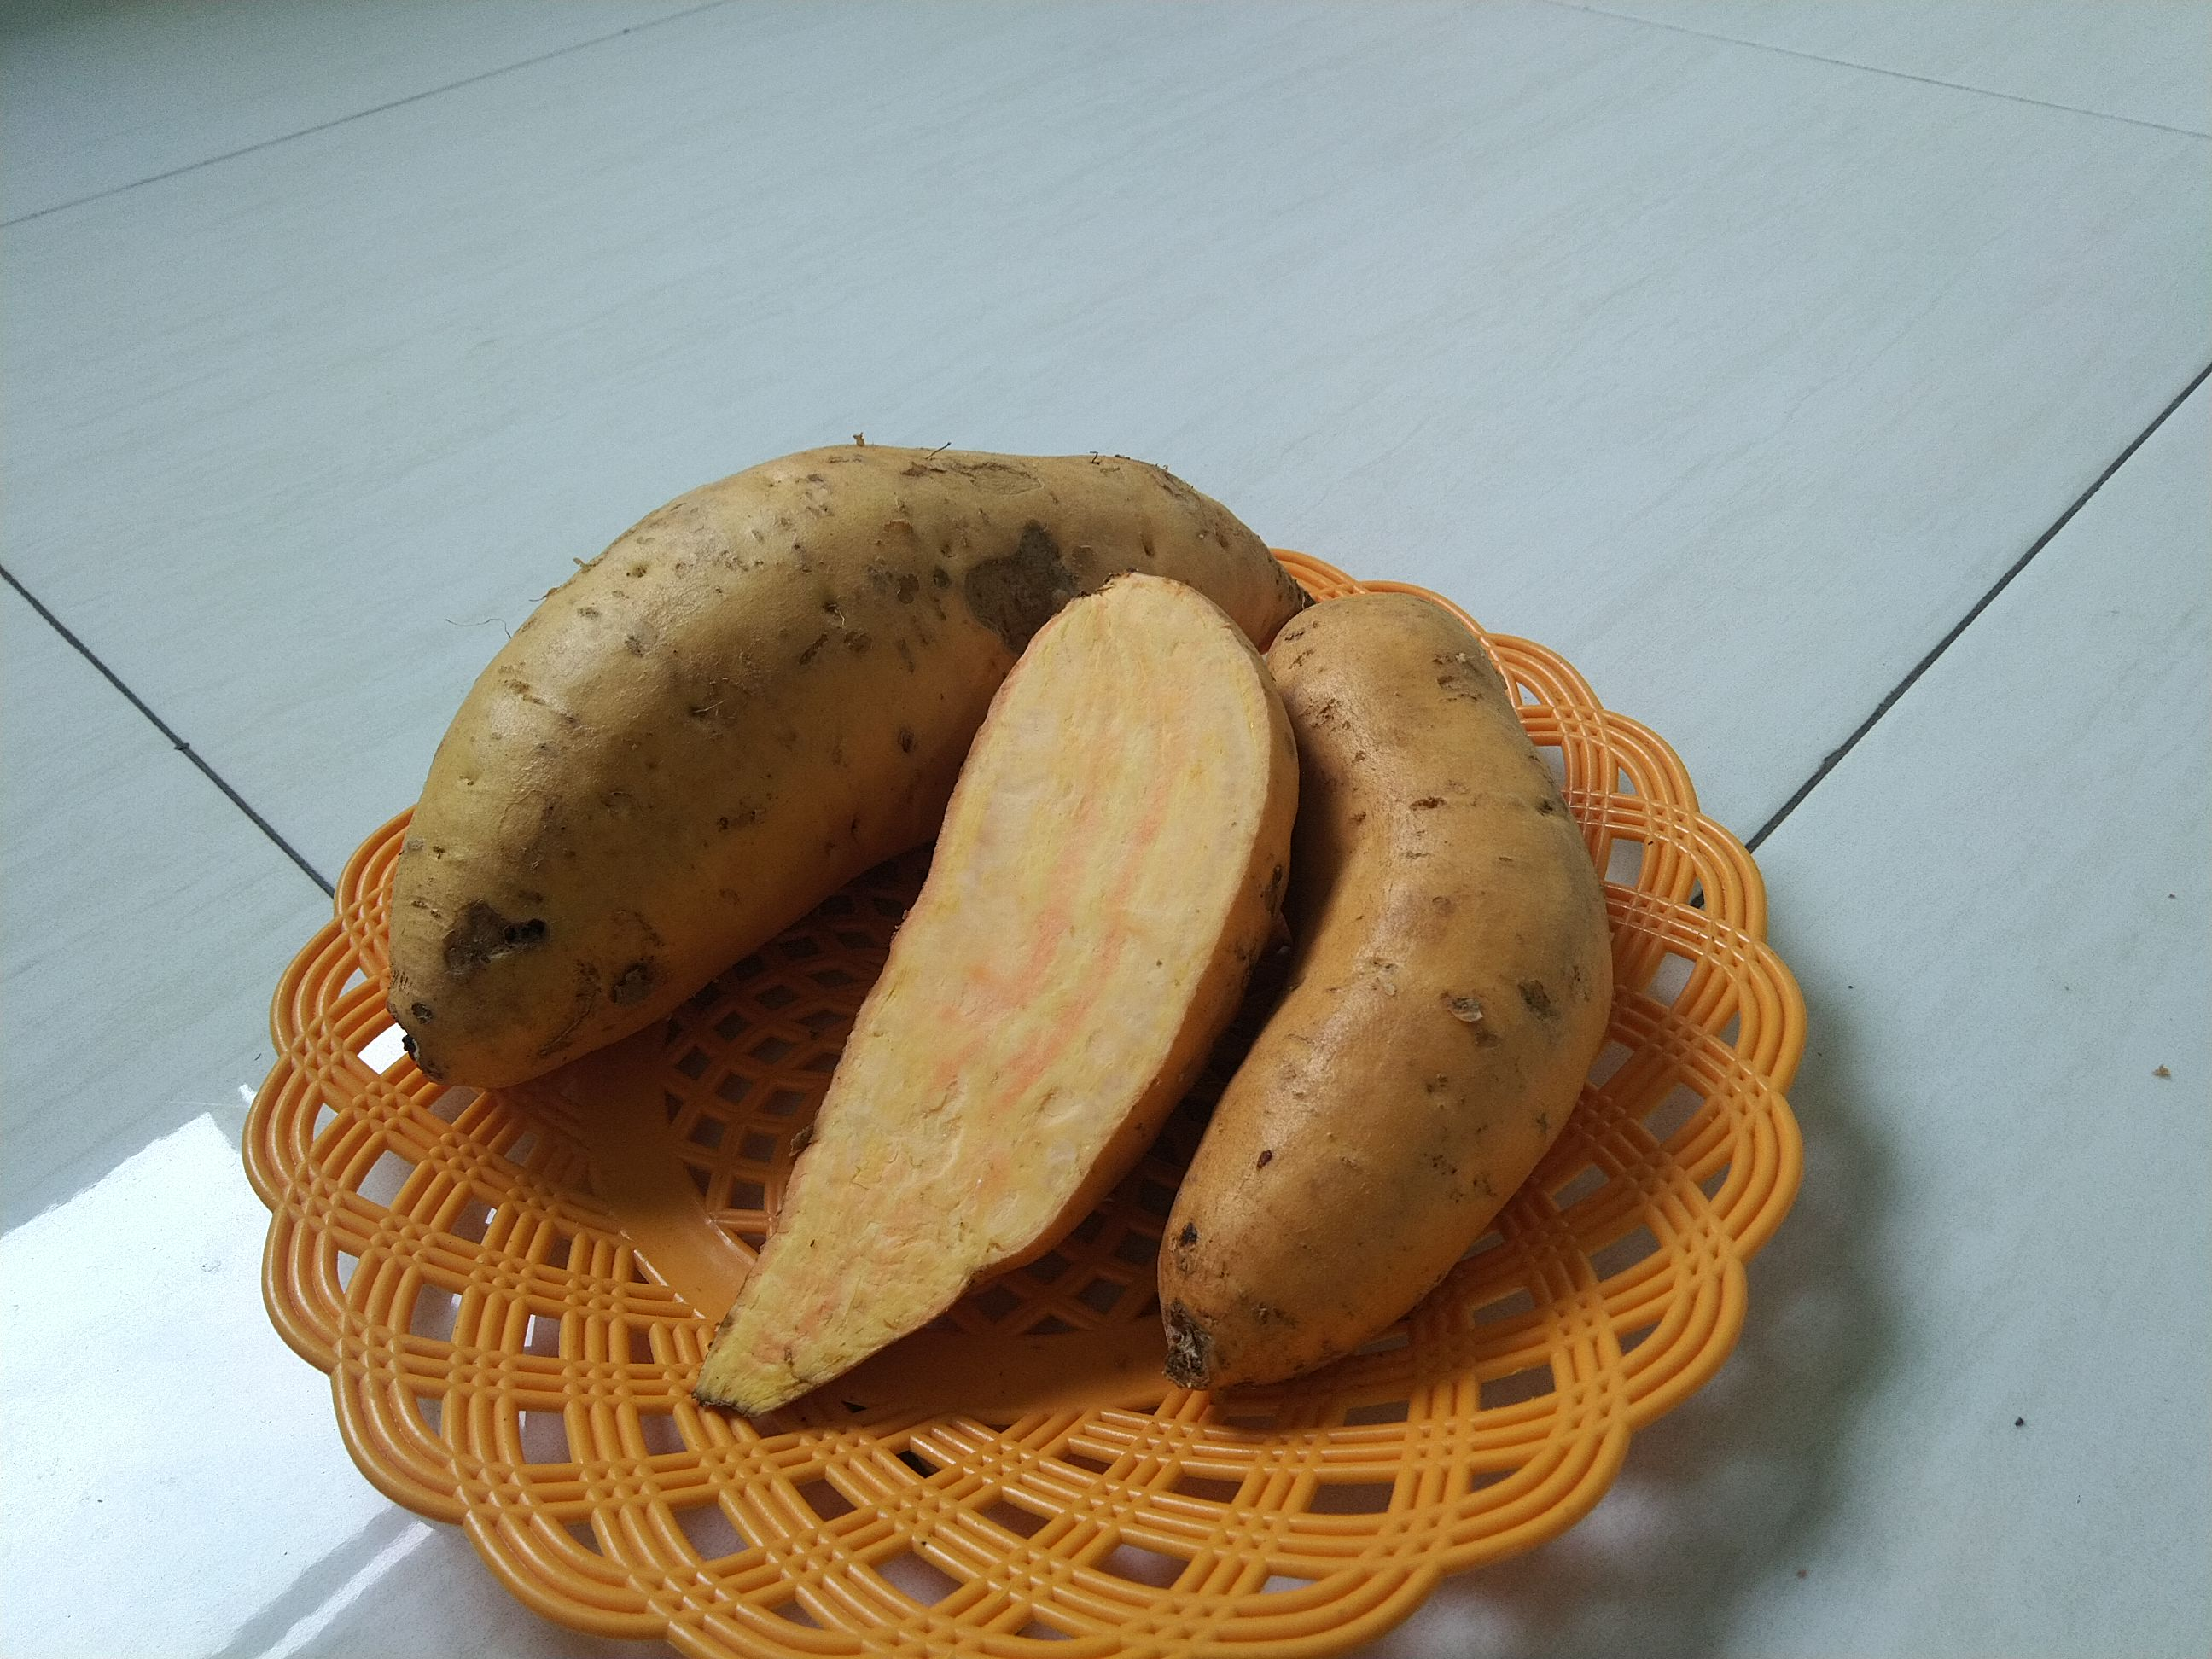ubi cilembu: (362, 425, 1665, 1420), (378, 446, 1350, 1087), (690, 568, 1336, 1427), (1157, 589, 1616, 1410)
